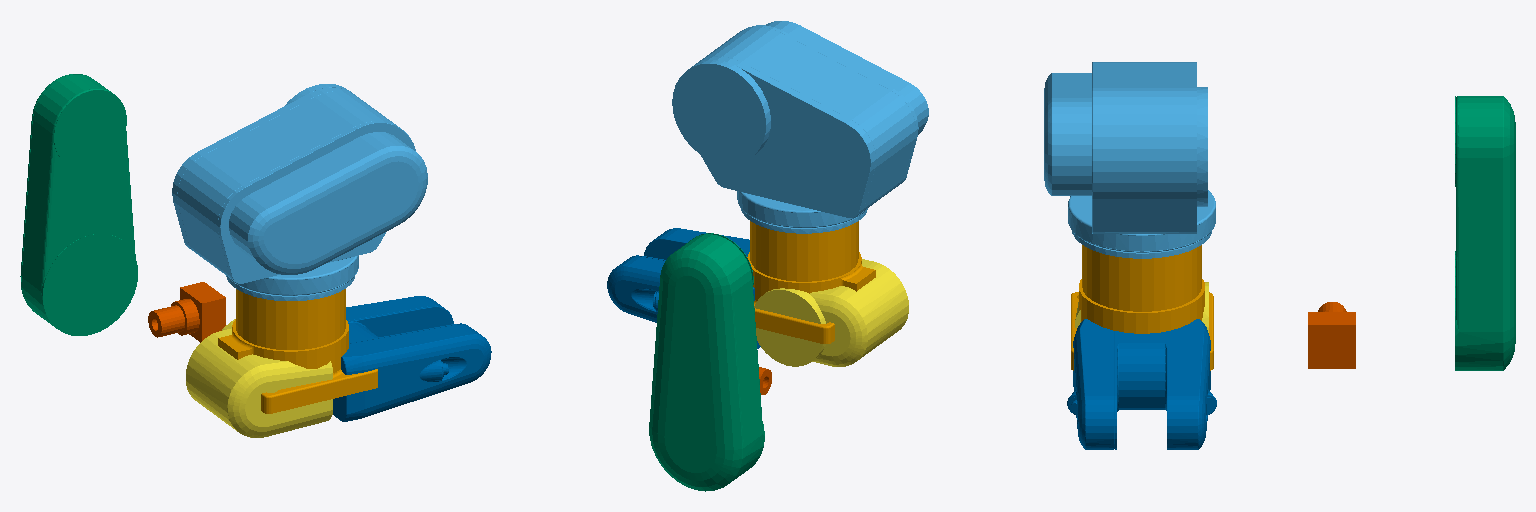
URDF robot description (body):
<?xml version="1.0"?>
<robot name="body"
       xmlns:xi="http://www.w3.org/2001/XInclude"
       xmlns:gazebo="http://playerstage.sourceforge.net/gazebo/xmlschema/#gz"
       xmlns:model="http://playerstage.sourceforge.net/gazebo/xmlschema/#model"
       xmlns:sensor="http://playerstage.sourceforge.net/gazebo/xmlschema/#sensor"
       xmlns:body="http://playerstage.sourceforge.net/gazebo/xmlschema/#body"
       xmlns:geom="http://playerstage.sourceforge.net/gazebo/xmlschema/#geom"
       xmlns:joint="http://playerstage.sourceforge.net/gazebo/xmlschema/#joint"
       xmlns:interface="http://playerstage.sourceforge.net/gazebo/xmlschema/#interface"
       xmlns:rendering="http://playerstage.sourceforge.net/gazebo/xmlschema/#rendering"
       xmlns:renderable="http://playerstage.sourceforge.net/gazebo/xmlschema/#renderable"
       xmlns:controller="http://playerstage.sourceforge.net/gazebo/xmlschema/#controller"
       xmlns:physics="http://playerstage.sourceforge.net/gazebo/xmlschema/#physics">
  <link name="link0">
    <visual>
      <origin xyz="0 0 0" rpy="0 -0 0"/>
      <geometry>
        <mesh filename="package:///urdf_collection/meshes/kr3cr/kr3cr_link1.stl" scale="1 1 1" />
      </geometry>
    </visual>
    <collision>
      <origin xyz="0 0 0" rpy="0 -0 0"/>
      <geometry>
        <mesh filename="package://urdf_collection/meshes/kr3cr/kr3cr_link1.stl" scale="1 1 1" />
      </geometry>
    </collision>
    <inertial>
      <mass value="1" />
      <origin xyz="0 0 0" rpy="0 -0 0"/>
      <inertia ixx="0.4" ixy="0" ixz="0" iyy="0.4" iyz="0" izz="0.4"/>
    </inertial>
  </link>
  <link name="link1">
    <visual>
      <origin xyz="0 0 0" rpy="3.14159 -0 0"/>
      <geometry>
        <mesh filename="package://urdf_collection/meshes/kr3cr/kr3cr_link2.stl" scale="1 1 1" />
      </geometry>
    </visual>
    <collision>
      <origin xyz="0 0 0" rpy="3.14159 -0 0"/>
      <geometry>
        <mesh filename="package://urdf_collection/meshes/kr3cr/kr3cr_link2.stl" scale="1 1 1" />
      </geometry>
    </collision>
    <inertial>
      <mass value="1" />
      <origin xyz="0 0 0" rpy="0 -0 0"/>
      <inertia ixx="0.4" ixy="0" ixz="0" iyy="0.4" iyz="0" izz="0.4"/>
    </inertial>
  </link>
  <link name="link2">
    <visual>
      <origin xyz="0.1 4.28626e-17 -0.35" rpy="1.5708 -0 0"/>
      <geometry>
        <mesh filename="package://urdf_collection/meshes/kr3cr/kr3cr_link3.stl" scale="1 1 1" />
      </geometry>
    </visual>
    <collision>
      <origin xyz="0.1 4.28626e-17 -0.35" rpy="1.5708 -0 0"/>
      <geometry>
        <mesh filename="package://urdf_collection/meshes/kr3cr/kr3cr_link3.stl" scale="1 1 1" />
      </geometry>
    </collision>
    <inertial>
      <mass value="1" />
      <origin xyz="0 0 0" rpy="0 -0 0"/>
      <inertia ixx="0.4" ixy="0" ixz="0" iyy="0.4" iyz="0" izz="0.4"/>
    </inertial>
  </link>
  <link name="link3">
    <visual>
      <origin xyz="0 -0.265 5.88418e-17" rpy="0 -0 0"/>
      <geometry>
        <mesh filename="package://urdf_collection/meshes/kr3cr/kr3cr_link4_correction1.stl" scale="1 1 1" />
      </geometry>
    </visual>
    <collision>
      <origin xyz="0 -0.265 5.88418e-17" rpy="0 -0 0"/>
      <geometry>
        <mesh filename="package://urdf_collection/meshes/kr3cr/kr3cr_link4_correction1.stl" scale="1 1 1" />
      </geometry>
    </collision>
    <inertial>
      <mass value="1" />
      <origin xyz="0 1.11022e-16 -2.46519e-32" rpy="0 -0 0"/>
      <inertia ixx="0.4" ixy="0" ixz="0" iyy="0.4" iyz="0" izz="0.4"/>
    </inertial>
  </link>
  <link name="link4">
    <visual>
      <origin xyz="0 0 0" rpy="1.5708 -6.66134e-16 -1.5708"/>
      <geometry>
        <mesh filename="package://urdf_collection/meshes/kr3cr/kr3cr_link5.stl" scale="1 1 1" />
      </geometry>
    </visual>
    <collision>
      <origin xyz="0 0 0" rpy="1.5708 -6.66134e-16 -1.5708"/>
      <geometry>
        <mesh filename="package://urdf_collection/meshes/kr3cr/kr3cr_link5.stl" scale="1 1 1" />
      </geometry>
    </collision>
    <inertial>
      <mass value="1" />
      <origin xyz="-1.11022e-16 9.86076e-32 0" rpy="0 -0 0"/>
      <inertia ixx="0.4" ixy="-1.45434e-32" ixz="0" iyy="0.4" iyz="0" izz="0.4"/>
    </inertial>
  </link>
  <link name="link5">
    <visual>
      <origin xyz="1.11022e-16 0 -0.27" rpy="-1.89255 1.5708 -0.321751"/>
      <geometry>
        <mesh filename="package://urdf_collection/meshes/kr3cr/kr3cr_link6.stl" scale="1 1 1" />
      </geometry>
    </visual>
    <collision>
      <origin xyz="1.11022e-16 0 -0.27" rpy="-1.89255 1.5708 -0.321751"/>
      <geometry>
        <mesh filename="package://urdf_collection/meshes/kr3cr/kr3cr_link6.stl" scale="1 1 1" />
      </geometry>
    </collision>
    <inertial>
      <mass value="1" />
      <origin xyz="-1.11022e-16 2.22045e-16 4.42108e-17" rpy="0 -0 0"/>
      <inertia ixx="0.4" ixy="-1.80297e-32" ixz="0" iyy="0.4" iyz="0" izz="0.4"/>
    </inertial>
  </link>
  <link name="link6">
    <visual>
      <origin xyz="0 0 0" rpy="1.5708 -6.66134e-16 -1.5708"/>
      <geometry>
        <mesh filename="package://urdf_collection/meshes/kr3cr/kr3cr_link7.stl" scale="1 1 1" />
      </geometry>
    </visual>
    <collision>
      <origin xyz="0 0 0" rpy="1.5708 -6.66134e-16 -1.5708"/>
      <geometry>
        <mesh filename="package://urdf_collection/meshes/kr3cr/kr3cr_link7.stl" scale="1 1 1" />
      </geometry>
    </collision>
    <inertial>
      <mass value="1" />
      <origin xyz="-2.22045e-16 4.42108e-17 1.11022e-16" rpy="0 -0 0"/>
      <inertia ixx="0.4" ixy="-2.90868e-32" ixz="2.46519e-32" iyy="0.4" iyz="-1.2326e-32" izz="0.4"/>
    </inertial>
  </link>
  <joint name="j0" type="revolute">
    <parent link="link0"/>
    <child  link="link1"/>
    <origin xyz="0 0 0" rpy="3.14159 -0 0 "/>
    <axis   xyz="0 0 1"/>
    <limit lower="-3.14159" upper="3.14159" effort="50" velocity="4.18879" />
    <dynamics damping="0.2" friction="0" />
  </joint>
  <joint name="j1" type="revolute">
    <parent link="link1"/>
    <child  link="link2"/>
    <origin xyz="0.1 4.28626e-17 -0.35" rpy="1.5708 -0 0 "/>
    <axis   xyz="0 2.22045e-16 1"/>
    <limit lower="-0.785398" upper="2.35619" effort="50" velocity="3.66519" />
    <dynamics damping="0.2" friction="0" />
  </joint>
  <joint name="j2" type="revolute">
    <parent link="link2"/>
    <child  link="link3"/>
    <origin xyz="0 -0.265 5.88418e-17" rpy="0 -0 0 "/>
    <axis   xyz="0 0 1"/>
    <limit lower="-2.35619" upper="2.35619" effort="50" velocity="4.18879" />
    <dynamics damping="0.2" friction="0" />
  </joint>
  <joint name="j3" type="revolute">
    <parent link="link3"/>
    <child  link="link4"/>
    <origin xyz="0 0 0" rpy="1.5708 -6.66134e-16 -1.5708 "/>
    <axis   xyz="-1.24492e-16 3.46536e-16 1"/>
    <limit lower="-3.14159" upper="3.14159" effort="50" velocity="6.54498" />
    <dynamics damping="0.2" friction="0" />
  </joint>
  <joint name="j4" type="revolute">
    <parent link="link4"/>
    <child  link="link5"/>
    <origin xyz="1.11022e-16 0 -0.27" rpy="-1.89255 1.5708 -0.321751 "/>
    <axis   xyz="-3.46536e-16 1.24492e-16 1"/>
    <limit lower="-2.35619" upper="2.35619" effort="50" velocity="5.23599" />
    <dynamics damping="0.2" friction="0" />
  </joint>
  <joint name="j5" type="continuous">
    <parent link="link5"/>
    <child  link="link6"/>
    <origin xyz="0 0 0" rpy="1.5708 -6.66134e-16 -1.5708 "/>
    <axis   xyz="-1.24492e-16 3.46536e-16 1"/>
    <limit lower="-3.14159" upper="3.14159" effort="50" velocity="6.54498" />
    <dynamics damping="0.2" friction="0" />
  </joint>
</robot>

--- What the picture shows (computed from the rendered views, not written in the file) ---
Views: 3 orthographic renders of the robot side by side, from view 1: azimuth 30°, elevation 25°; view 2: azimuth 150°, elevation 25°; view 3: azimuth 270°, elevation 25°.
Robot: body — 7 links, 6 joints (5 revolute, 1 continuous); root link link0; default pose: every joint at zero.
Visible links, largest first — view 1: link1, link2, link4, link0, link3, link5; view 2: link1, link2, link3, link0, link4; view 3: link1, link2, link4, link0, link5.
Link boxes in pixels (x1,y1,x2,y2): link1: [172, 84, 427, 300]; link2: [20, 74, 137, 335]; link4: [333, 296, 491, 421]; link0: [218, 289, 377, 413]; link3: [186, 319, 332, 437]; link5: [148, 282, 225, 342]; link1: [672, 21, 928, 233]; link2: [649, 233, 764, 491]; link3: [754, 259, 908, 366]; link0: [747, 221, 875, 343]; link4: [607, 228, 760, 348]; link1: [1044, 62, 1215, 258]; link2: [1455, 96, 1515, 370]; link4: [1067, 319, 1216, 449]; link0: [1071, 245, 1213, 370]; link5: [1308, 302, 1355, 368].
Bounding box of the posed robot: 496 × 668 × 520 m (x, y, z).
7 mesh visuals loaded from 7 distinct referenced files (7 binary STL).
